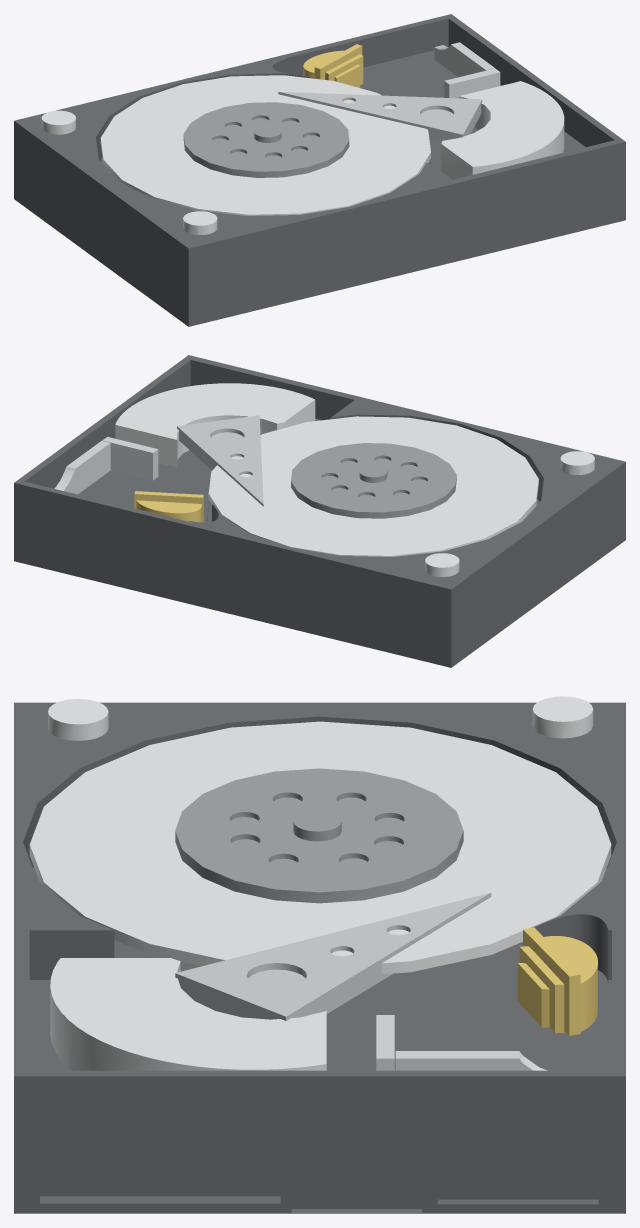
The model's file is dduro.glb.
3 views of the same model, one above another, from view 1: azimuth 30°, elevation 25°; view 2: azimuth 150°, elevation 25°; view 3: azimuth 270°, elevation 25° (orthographic). The views are drawn at different scales.
Parts seen in each view (by area): view 1: Object_6, Object_4, Object_7, Object_2, Object_3, Object_5; view 2: Object_6, Object_4, Object_7, Object_2, Object_3, Object_5; view 3: Object_6, Object_4, Object_7, Object_2, Object_5, Object_3.
Boxes of the visible parts, x1,y1,x2,y2 form: Object_6: (14,14,625,326); Object_4: (41,75,564,234); Object_7: (183,102,349,177); Object_2: (278,91,482,142); Object_3: (434,42,500,98); Object_5: (303,44,363,87); Object_6: (14,355,625,667); Object_4: (115,383,594,576); Object_7: (291,443,456,518); Object_2: (177,415,263,506); Object_3: (54,437,158,494); Object_5: (134,491,203,522); Object_6: (14,702,625,1213); Object_4: (29,696,611,1070); Object_7: (175,768,463,903); Object_2: (175,892,491,1020); Object_5: (517,927,597,1035); Object_3: (376,1015,547,1070).
Bounding box in the file's own units: 146 × 29.2 × 101.
